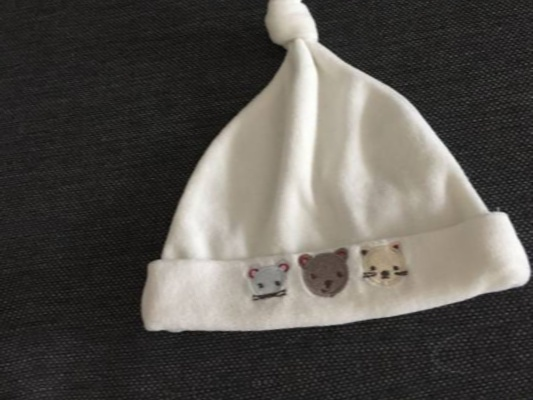Hat: (93, 0, 533, 362), (154, 378, 533, 400)
